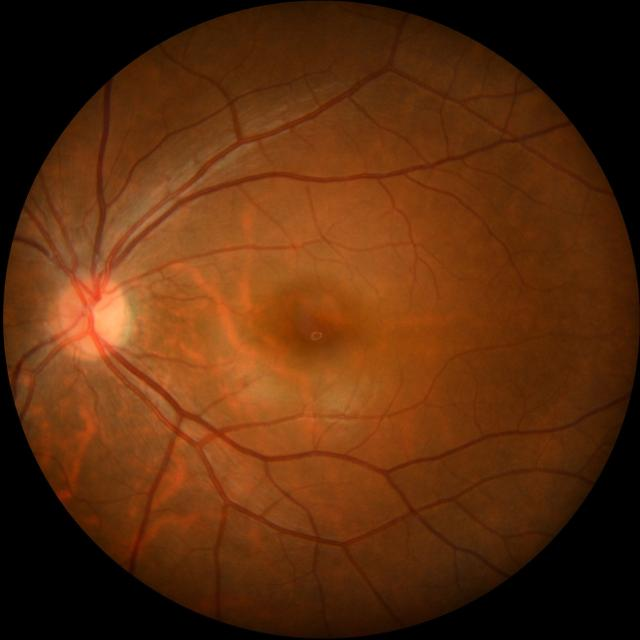OC: (93, 300, 114, 333)
OD: (59, 275, 129, 355)
